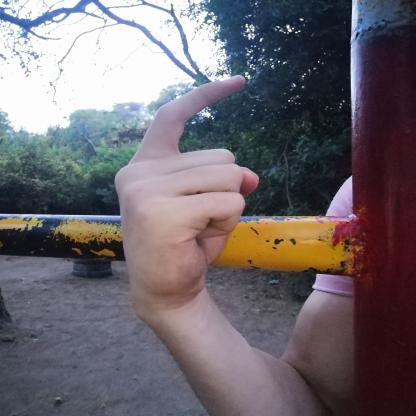RAA: (101, 64, 273, 322)
